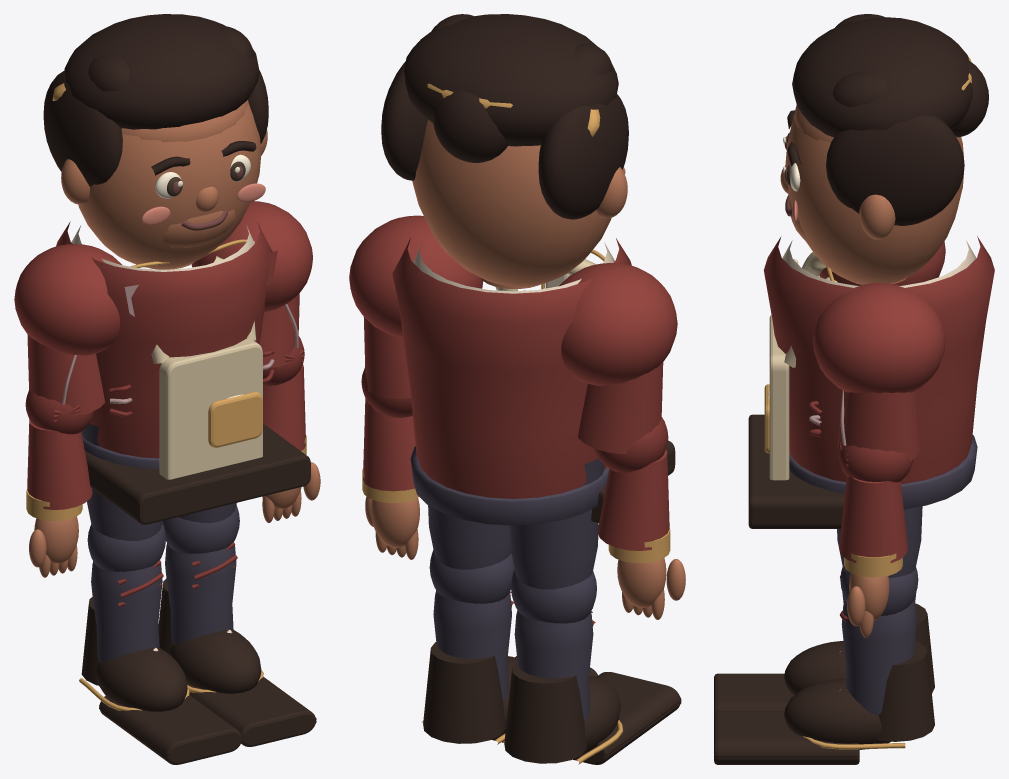
File: mira.glb
3 renders of one model, left to right at view 1: azimuth 30°, elevation 25°; view 2: azimuth 150°, elevation 25°; view 3: azimuth 270°, elevation 25°, orthographic. The views are drawn at different scales.
Parts seen in each view (by area): view 1: Tailored coat, Hair cap, Face, Apron panel, Tool belt, Shoulder -1, Sole -1, Trousers calf 1, Trousers calf -1, Side hair -1, Shoulder 1, Sole 1 (+26 smaller); view 2: Tailored coat, Face, Hair cap, Shoulder -1, Side hair -1, Shoulder 1, Boot shaft -1, Boot shaft 1, Trousers thigh -1, Trouser waistband, Sleeve forearm -1, Sleeve upper -1 (+21 smaller); view 3: Tailored coat, Hair cap, Shoulder 1, Side hair 1, Face, Tool belt, Sole 1, Trousers calf 1, Sleeve forearm 1, Leather toe 1, Sleeve upper 1, Boot shaft 1 (+18 smaller).
Part boxes in pixels (x1,y1,x2,y2): Tailored coat: (56,221,272,458); Hair cap: (64,14,259,129); Face: (78,103,261,268); Apron panel: (159,338,262,479); Tool belt: (85,423,310,524); Shoulder -1: (14,244,121,355); Sole -1: (99,695,242,764); Trousers calf 1: (165,543,236,644); Trousers calf -1: (91,561,162,662); Side hair -1: (43,71,122,186); Shoulder 1: (191,201,312,312); Sole 1: (186,677,316,746); Tailored coat: (392,238,631,498); Face: (412,119,611,286); Hair cap: (404,14,618,146); Shoulder -1: (559,263,677,385); Side hair -1: (538,94,628,219); Shoulder 1: (349,215,483,337); Boot shaft -1: (504,662,586,763); Boot shaft 1: (423,642,505,743); Trousers thigh -1: (509,458,604,589); Trouser waistband: (410,446,609,525); Sleeve forearm -1: (597,449,669,550); Sleeve upper -1: (578,362,663,454); Tailored coat: (763,236,994,483); Hair cap: (792,17,972,137); Shoulder 1: (813,283,945,393); Side hair 1: (826,116,964,225); Face: (785,113,964,284); Tool belt: (748,414,844,528); Sole 1: (714,711,859,764); Trousers calf 1: (841,600,916,715); Sleeve forearm 1: (839,476,908,563); Leather toe 1: (784,678,890,749); Sleeve upper 1: (837,390,921,461); Boot shaft 1: (877,641,934,741).
Size of the model in its own units: 1.21 by 2.66 by 0.972.
